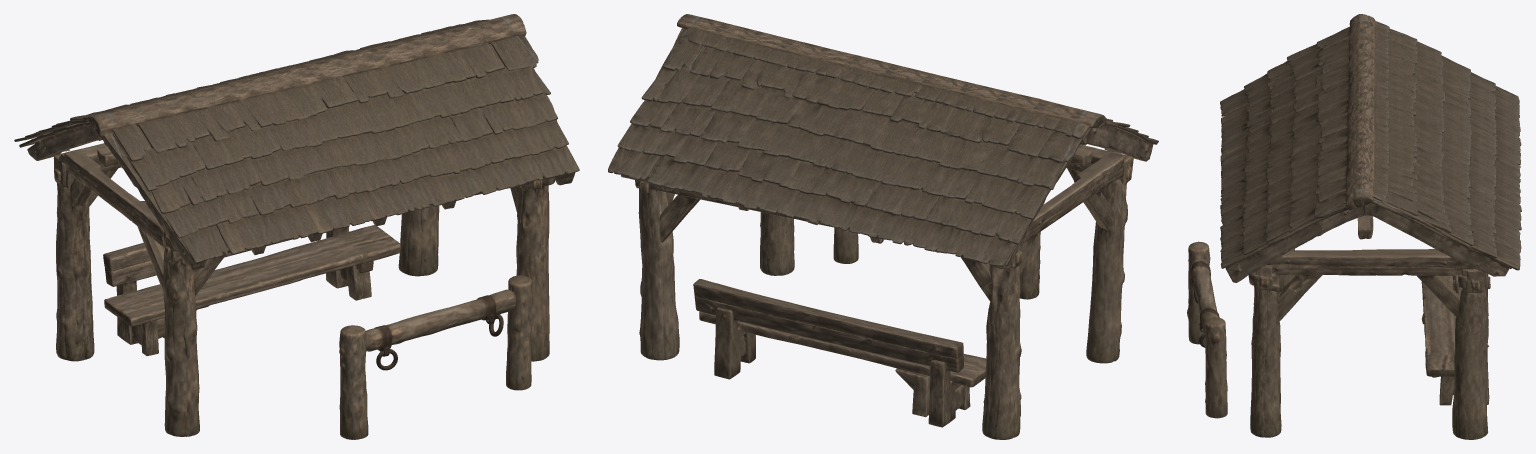
File: postoj_wozow.glb
The picture shows the model from 3 angles, left to right: view 1: azimuth 30°, elevation 25°; view 2: azimuth 150°, elevation 25°; view 3: azimuth 270°, elevation 25°; orthographic projection. The views are drawn at different scales.
Visible parts, largest first — view 1: Mesh_0; view 2: Mesh_0; view 3: Mesh_0.
Part boxes in pixels (<box>): Mesh_0: <box>14,14,579,439</box>; Mesh_0: <box>608,14,1158,439</box>; Mesh_0: <box>1187,14,1521,439</box>.
Size of the model in its own units: 1.9 by 1.24 by 1.48.
1 material, 1 textured.
